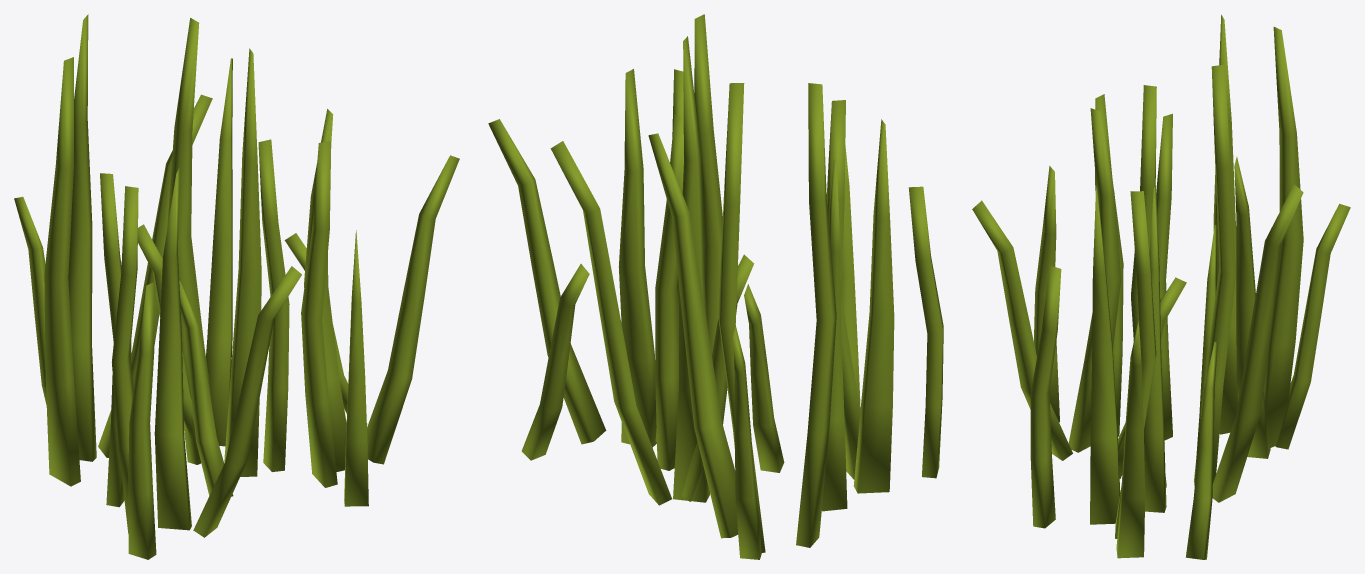
Rendered from lowpoly_4.dae.
3 views of the same model, side by side, from view 1: azimuth 30°, elevation 25°; view 2: azimuth 150°, elevation 25°; view 3: azimuth 270°, elevation 25° (orthographic). The views are drawn at different scales.
Parts seen in each view (by area): view 1: grass.001; view 2: grass.001; view 3: grass.001.
Boxes of the visible parts, <box> form: grass.001: <box>14,14,459,559</box>; grass.001: <box>488,14,943,559</box>; grass.001: <box>972,14,1350,559</box>.
Bounding box in the file's own units: 0.2611 × 0.2336 × 0.2913.
